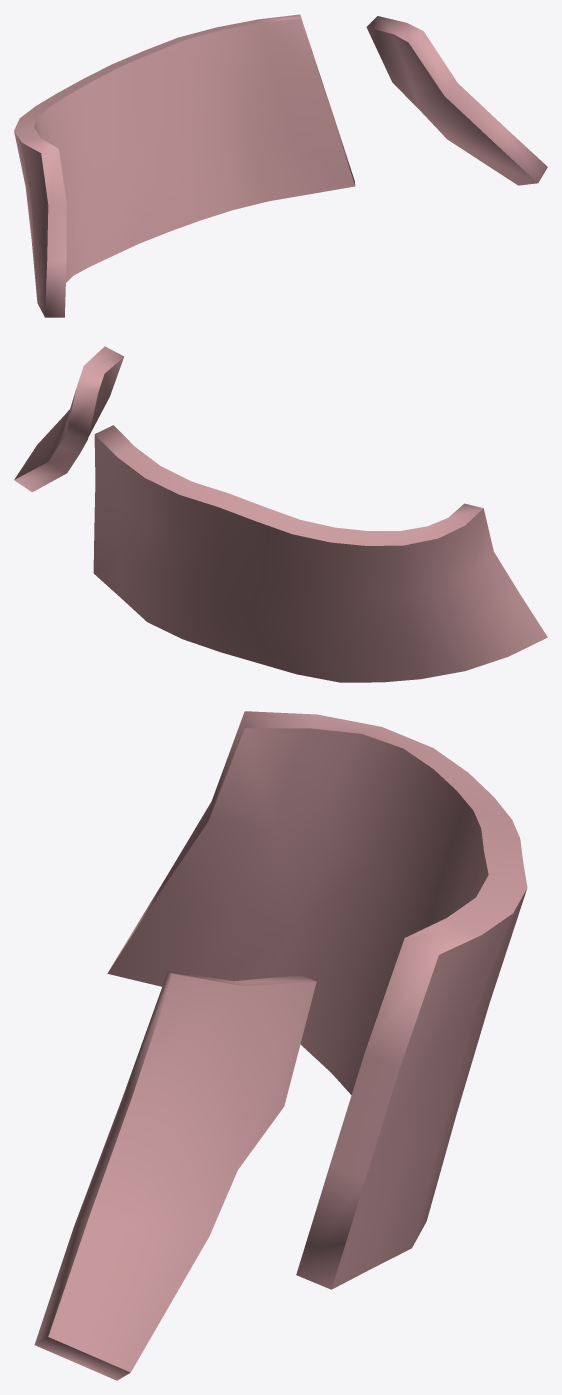
3 views of the same model, one above another, from view 1: azimuth 30°, elevation 25°; view 2: azimuth 150°, elevation 25°; view 3: azimuth 270°, elevation 25° (orthographic). The views are drawn at different scales.
Visible parts, largest first — view 1: ZA_13d878b2bd868fea; view 2: ZA_13d878b2bd868fea; view 3: ZA_13d878b2bd868fea.
Boxes of the visible parts, left/top/right/bottom form: ZA_13d878b2bd868fea: left=14, top=14, right=547, bottom=317; ZA_13d878b2bd868fea: left=14, top=346, right=547, bottom=682; ZA_13d878b2bd868fea: left=34, top=711, right=527, bottom=1380.
Size of the model in its own units: 0.0823 by 0.0325 by 0.0362.
